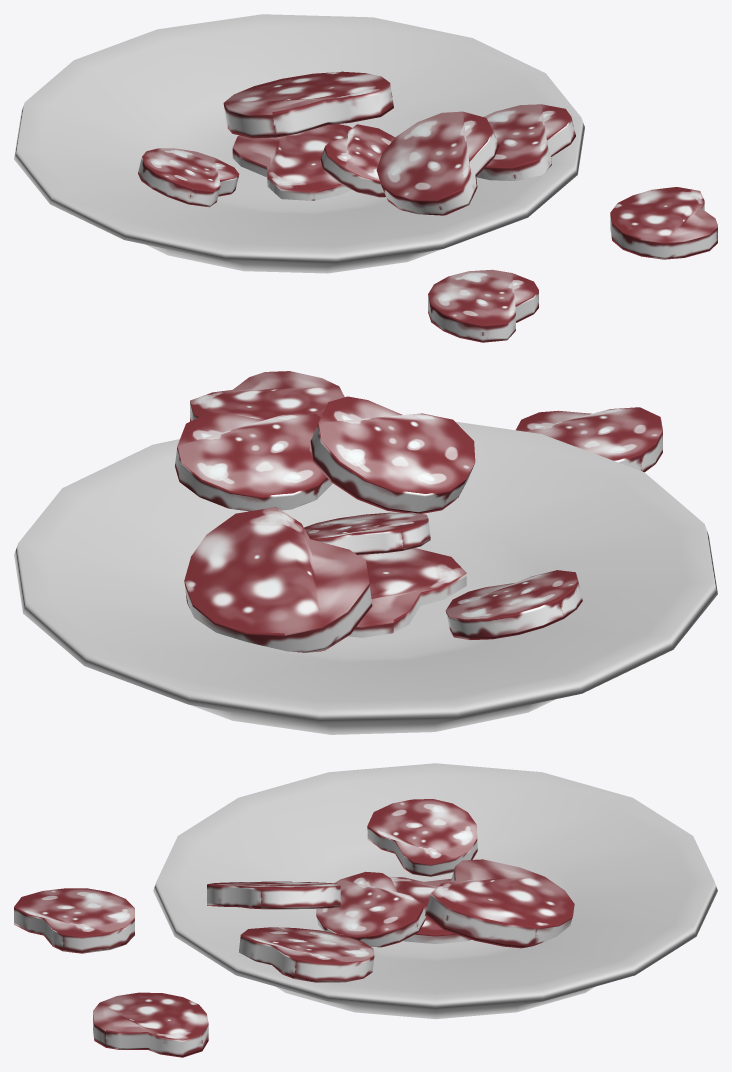
File: fuet.fbx
3 renders of one model, top to bottom at view 1: azimuth 30°, elevation 25°; view 2: azimuth 150°, elevation 25°; view 3: azimuth 270°, elevation 25°, orthographic. The views are drawn at different scales.
Parts seen in each view (by area): view 1: Cylinder, Cylinder.006, Cylinder.002, Cylinder.007, Cylinder.008, Cylinder.001, Cylinder.005, Cylinder.004, Cylinder.003; view 2: Cylinder, Cylinder.002, Cylinder.006, Cylinder.005, Cylinder.004, Cylinder.001, Cylinder.007, Cylinder.008, Cylinder.003; view 3: Cylinder, Cylinder.002, Cylinder.004, Cylinder.007, Cylinder.008, Cylinder.005, Cylinder.003, Cylinder.006, Cylinder.001.
Part boxes in pixels (box(x1,y1,x2,y2)): Cylinder: box(14, 14, 584, 273); Cylinder.006: box(376, 111, 499, 215); Cylinder.002: box(223, 71, 393, 138); Cylinder.007: box(428, 269, 538, 342); Cylinder.008: box(610, 187, 717, 259); Cylinder.001: box(232, 124, 351, 200); Cylinder.005: box(476, 104, 575, 180); Cylinder.004: box(138, 148, 239, 207); Cylinder.003: box(320, 124, 395, 197); Cylinder: box(14, 421, 717, 734); Cylinder.002: box(184, 507, 372, 652); Cylinder.006: box(309, 396, 475, 513); Cylinder.005: box(174, 413, 332, 511); Cylinder.004: box(445, 570, 582, 640); Cylinder.001: box(348, 548, 466, 637); Cylinder.007: box(516, 407, 662, 472); Cylinder.008: box(190, 371, 344, 421); Cylinder.003: box(304, 512, 430, 554); Cylinder: box(153, 763, 717, 1019); Cylinder.002: box(425, 859, 574, 948); Cylinder.004: box(367, 799, 477, 876); Cylinder.007: box(14, 888, 134, 953); Cylinder.008: box(93, 992, 208, 1057); Cylinder.005: box(239, 927, 374, 982); Cylinder.003: box(316, 871, 426, 947); Cylinder.006: box(207, 881, 340, 909); Cylinder.001: box(389, 877, 471, 943).
Bounding box in the file's own units: 320 × 56.12 × 382.
